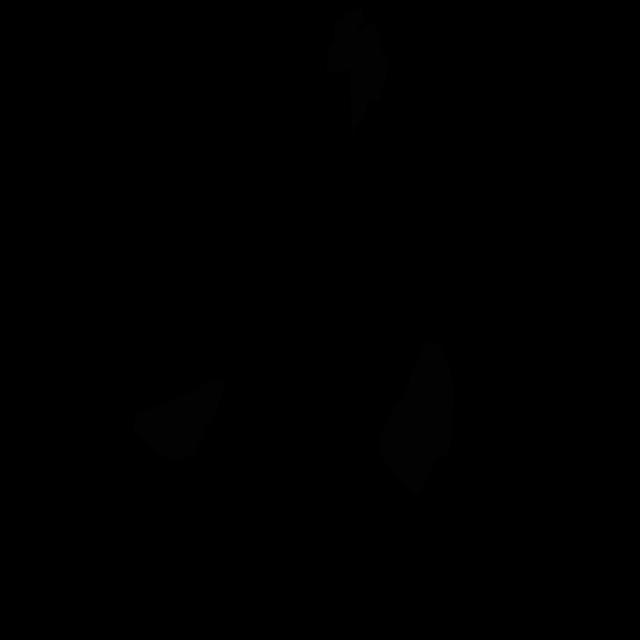cardboard: (378, 341, 454, 496), (326, 6, 390, 135), (133, 377, 226, 461)
